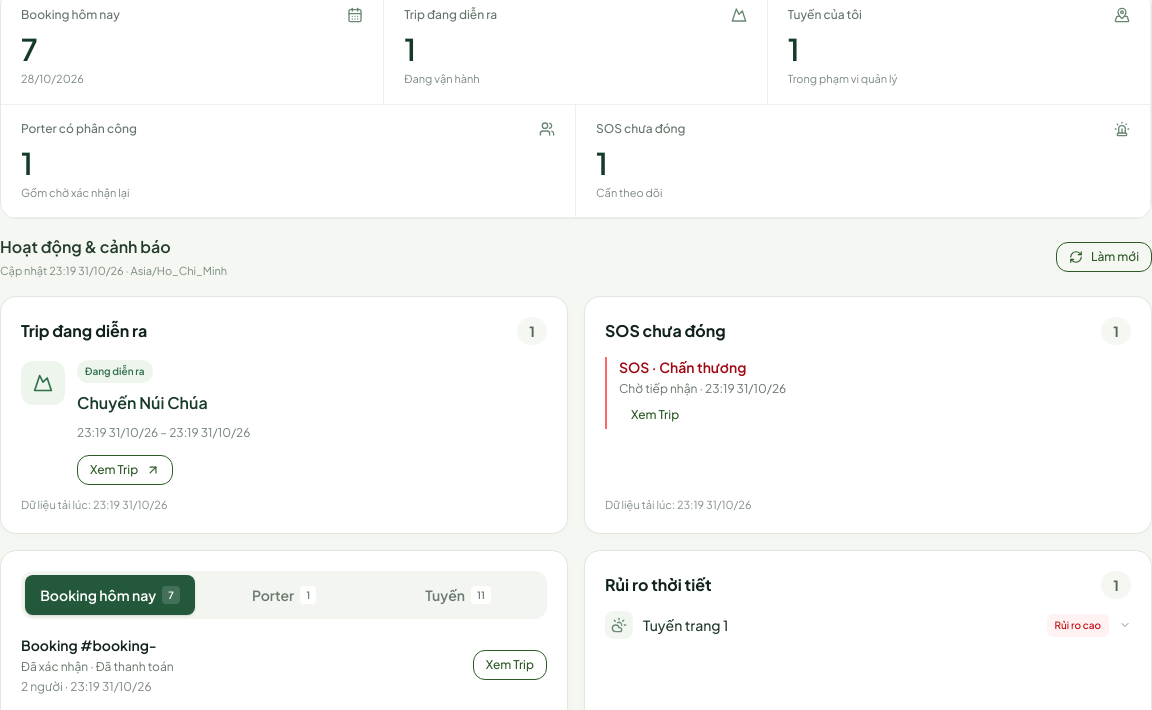
Test: CTMS-378 HostDashboardOverview › keeps independent pages per inventory tab without replacing Trip, weather or KPI data
Click the tab "Tuyến 11".
click(458, 595)  # box [373,575,543,615]
(page scrolled)
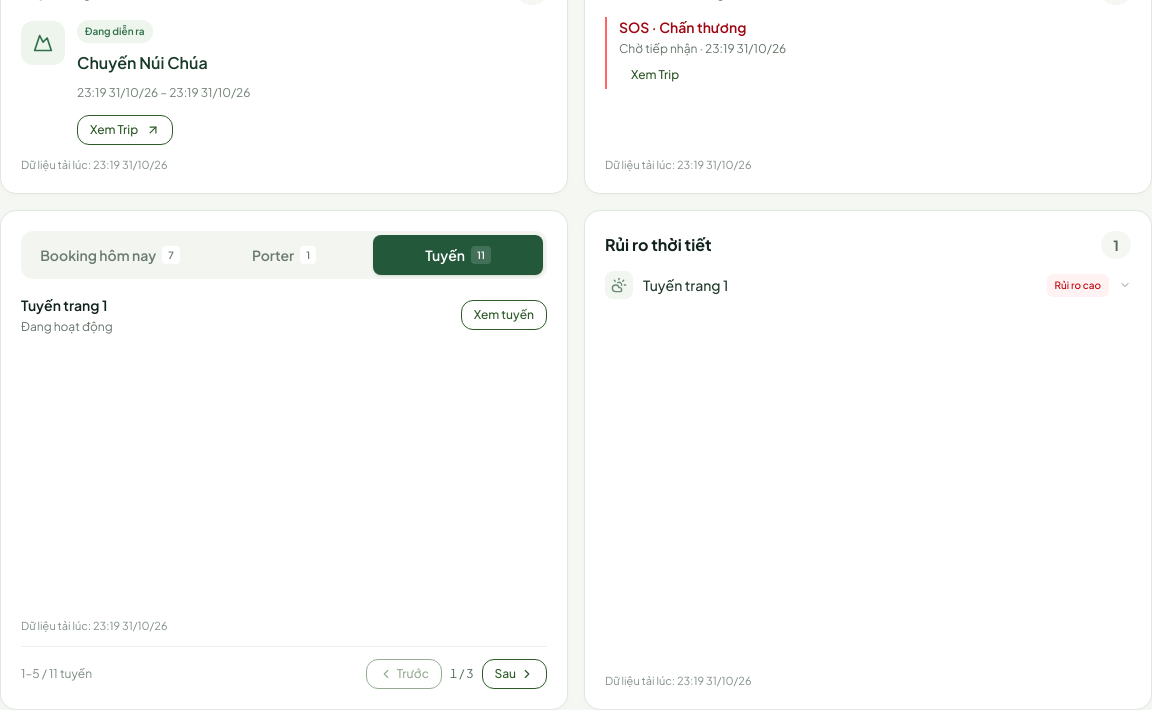
Click the button "Sau".
click(514, 674)  # box [482,659,547,689]
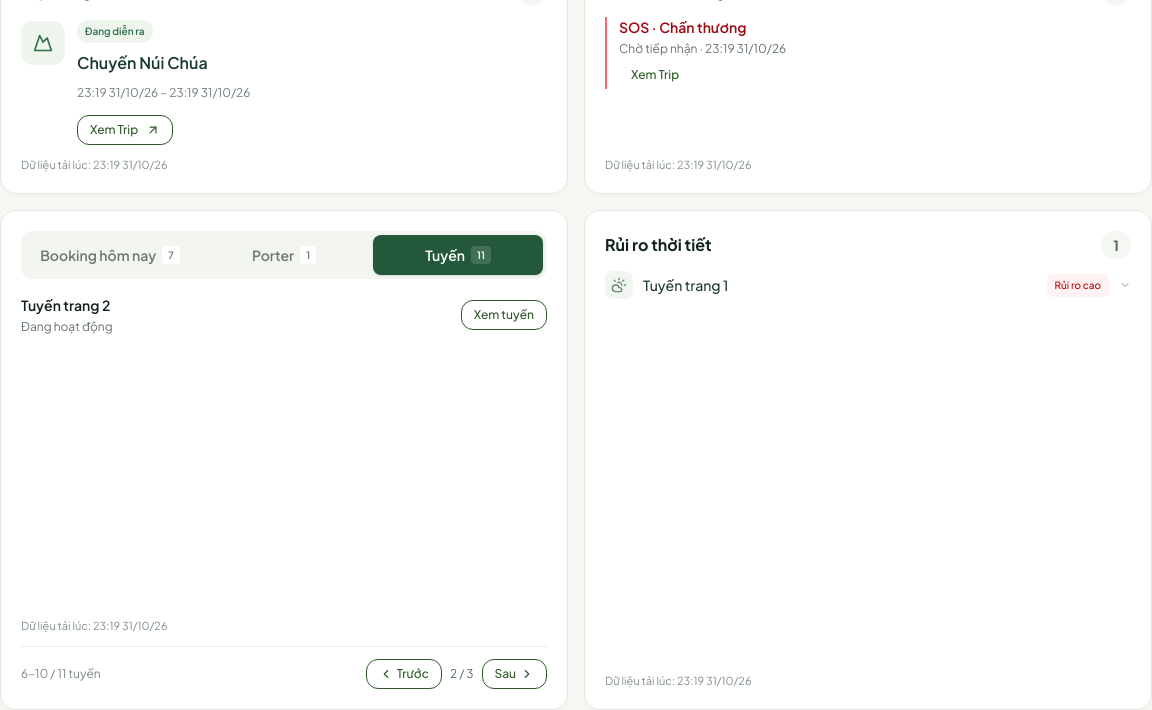
Check: the text "Chuyến Núi Chúa" is shown, box [77,52,208,72]
Check: the text "Tuyến trang 2" is shown, box [21,295,113,315]
Click the tab "Booking hôm nay 7".
click(110, 255)  # box [25,235,195,275]
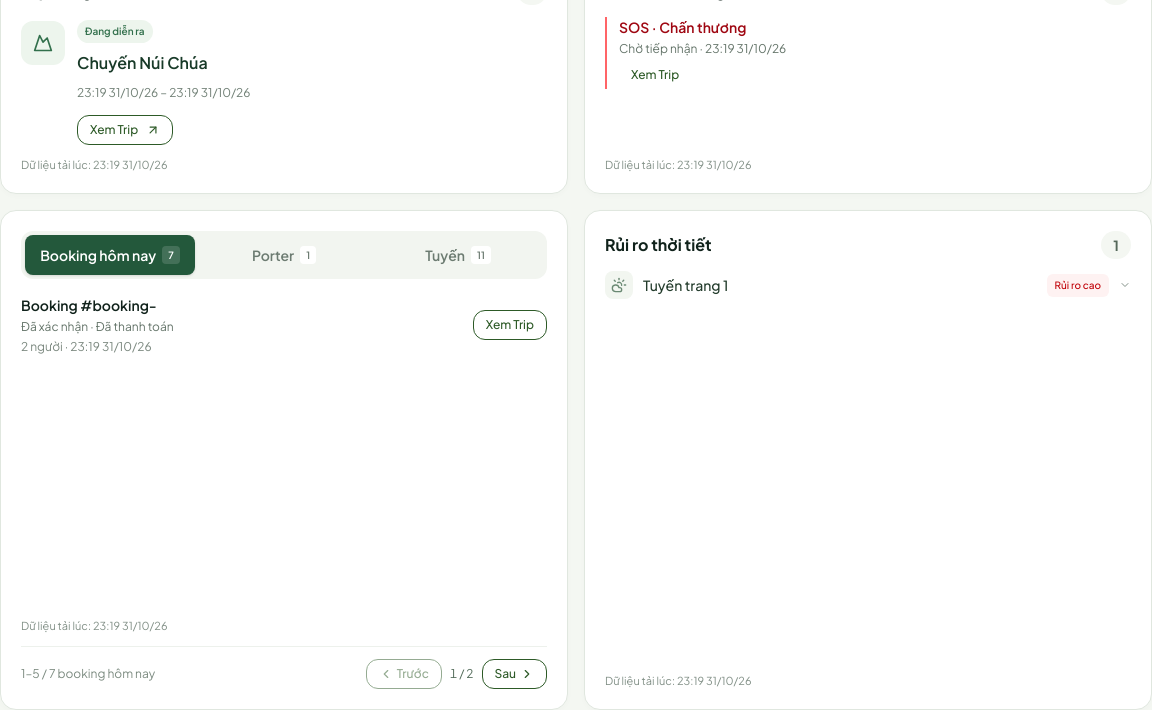
Check: the navigation bar named "Phân trang Booking hôm nay" shows "1 / 2", box [21,646,547,689]
Click the tab "Tuyến 11".
click(458, 255)  # box [373,235,543,275]
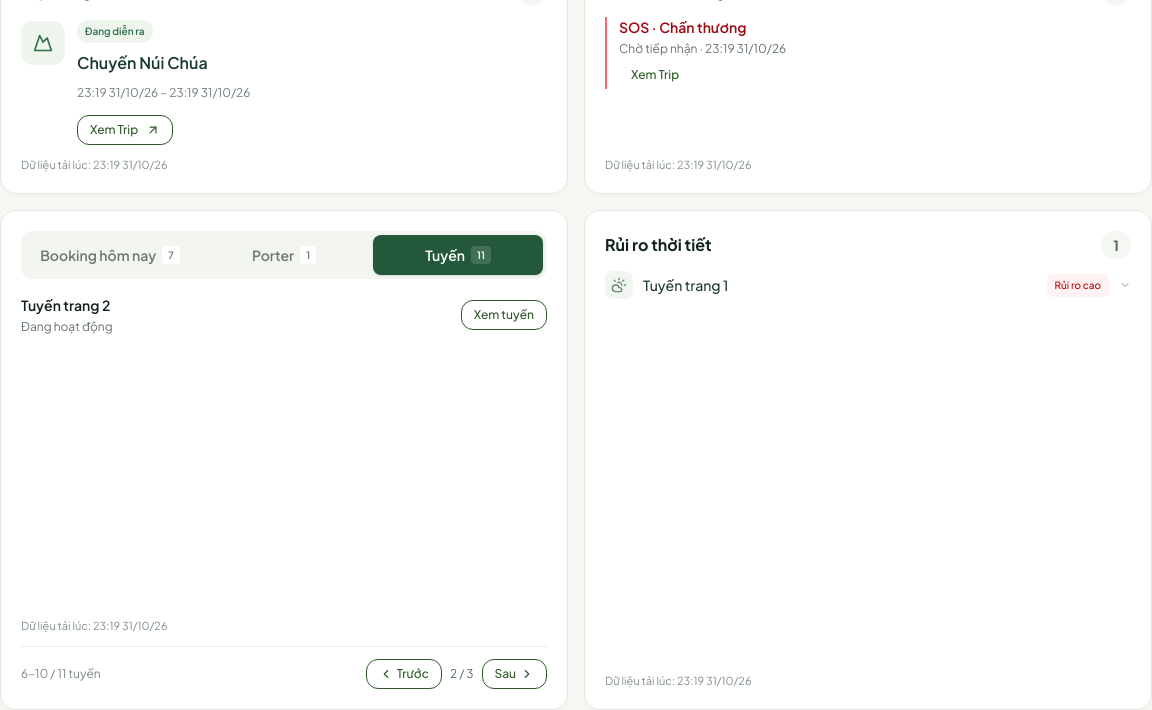
Check: the navigation bar named "Phân trang Tuyến" shows "2 / 3", box [21,646,547,689]
Check: the text "Tuyến trang 2" is shown, box [21,295,113,315]
